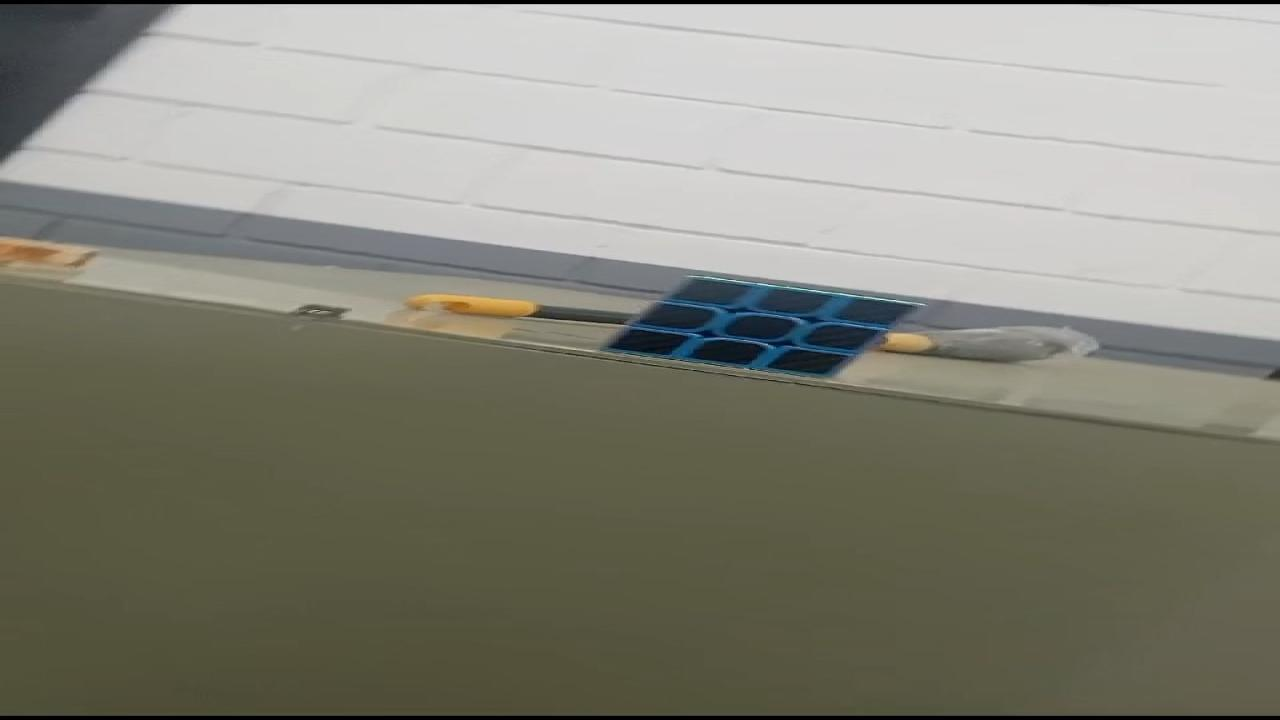Cube: (595, 273, 928, 379)
